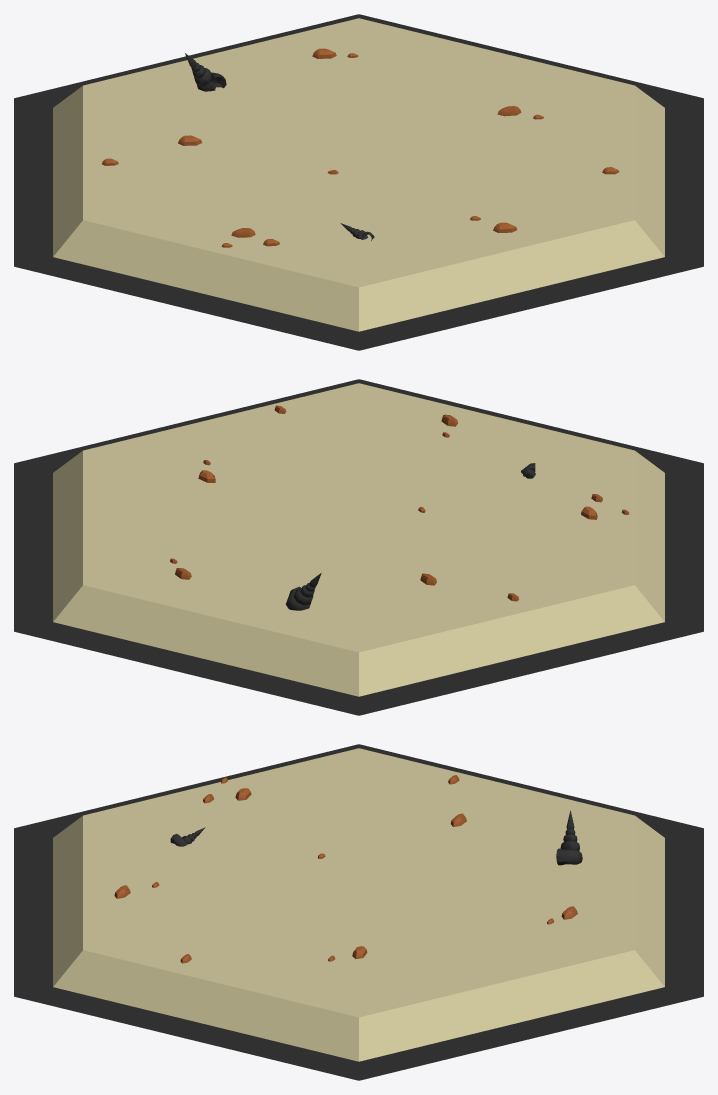
The model's file is SandTile.fbx.
The picture shows the model from 3 angles, top to bottom: view 1: azimuth 30°, elevation 25°; view 2: azimuth 150°, elevation 25°; view 3: azimuth 270°, elevation 25°; orthographic projection.
Parts seen in each view (by area): view 1: Null_4; view 2: Null_4; view 3: Null_4.
Part boxes in pixels (x1,y1,x2,y2): Null_4: (14,14,703,350); Null_4: (14,379,703,715); Null_4: (14,744,703,1080).
Bounding box in the file's own units: 100 × 10.29 × 86.6.
